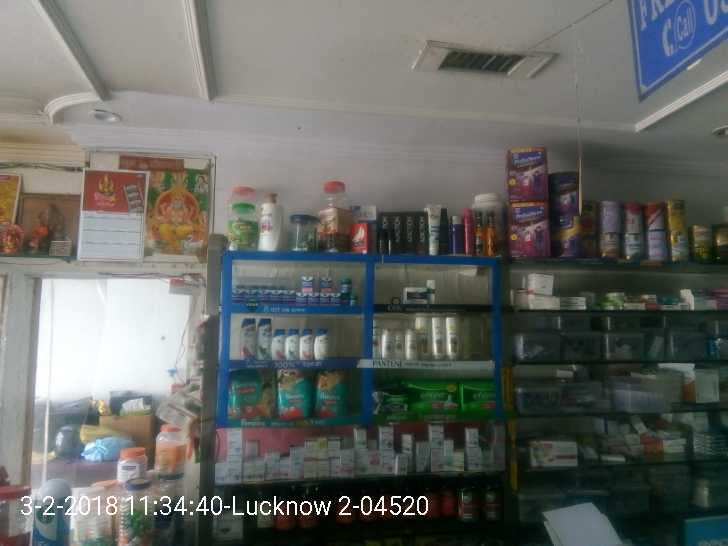beauty: (270, 326, 329, 359), (237, 317, 274, 361), (375, 329, 422, 359)
pharmacy: (393, 378, 461, 419), (228, 373, 279, 421), (308, 367, 347, 422), (454, 375, 498, 418), (275, 371, 311, 419), (368, 389, 412, 419)
